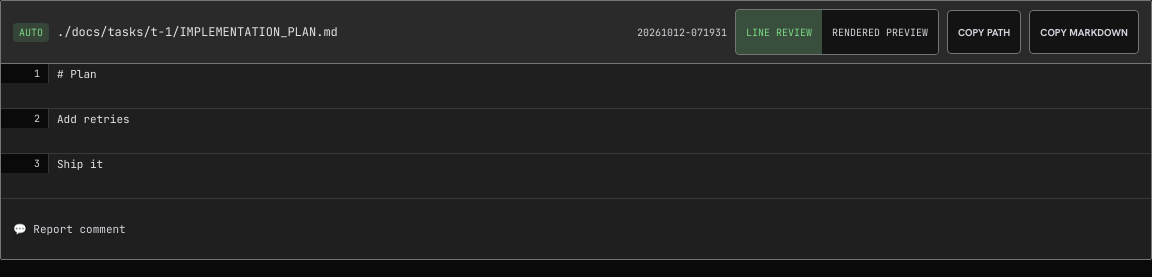
Scenario: ReportReviewView › toggles to the Rendered Preview (no line rows) and back
The width and height of the screenshot is (1152, 277).
Check: the number of elements with test id "report-line" is 3, box [1, 64, 97, 83]; [1, 109, 130, 128]; [1, 154, 103, 173]
Click the button "Rendered Preview". click: x=880, y=32
box: [822, 10, 938, 54]
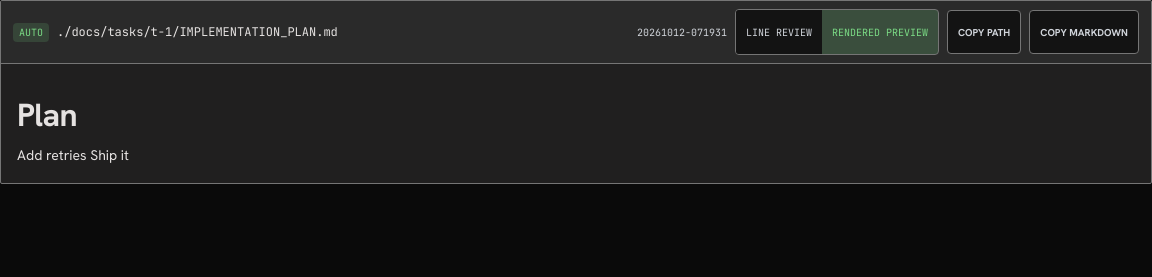
Check: no elements with test id "report-line" are shown
Click the button "Line Review". click: x=779, y=32
box: [736, 10, 822, 54]
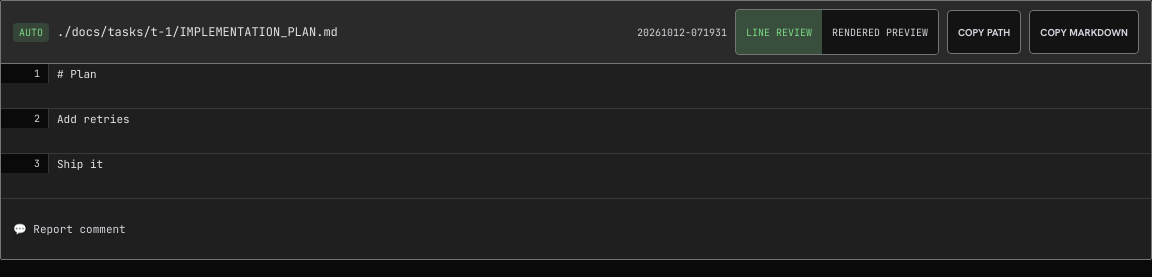
Check: the number of elements with test id "report-line" is 3, box [1, 64, 97, 83]; [1, 109, 130, 128]; [1, 154, 103, 173]
